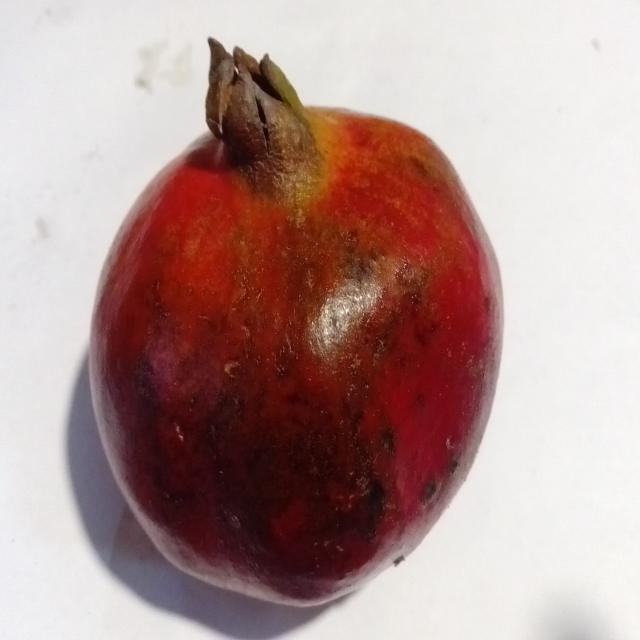Rotten: (86, 35, 506, 607)
